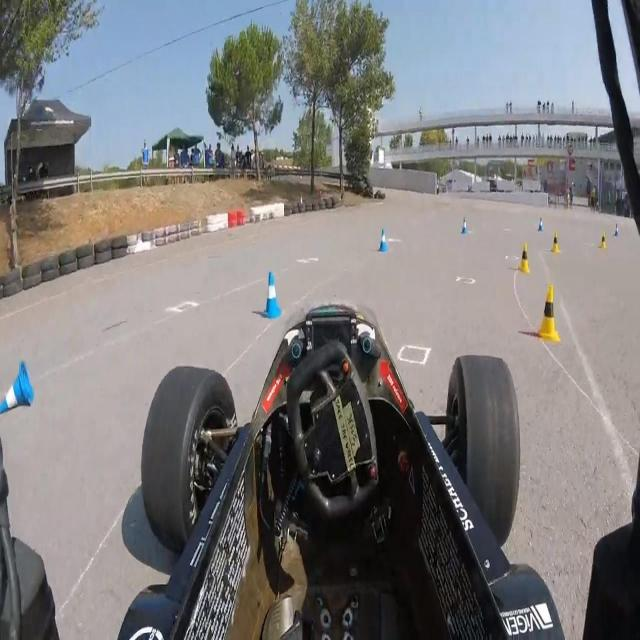blue_cone: (1, 364, 33, 412), (262, 274, 281, 321), (378, 228, 387, 254), (462, 216, 468, 235), (538, 217, 543, 232), (614, 222, 618, 238)
yellow_cone: (539, 285, 558, 342), (518, 242, 530, 274), (552, 230, 560, 253), (600, 231, 606, 250)
